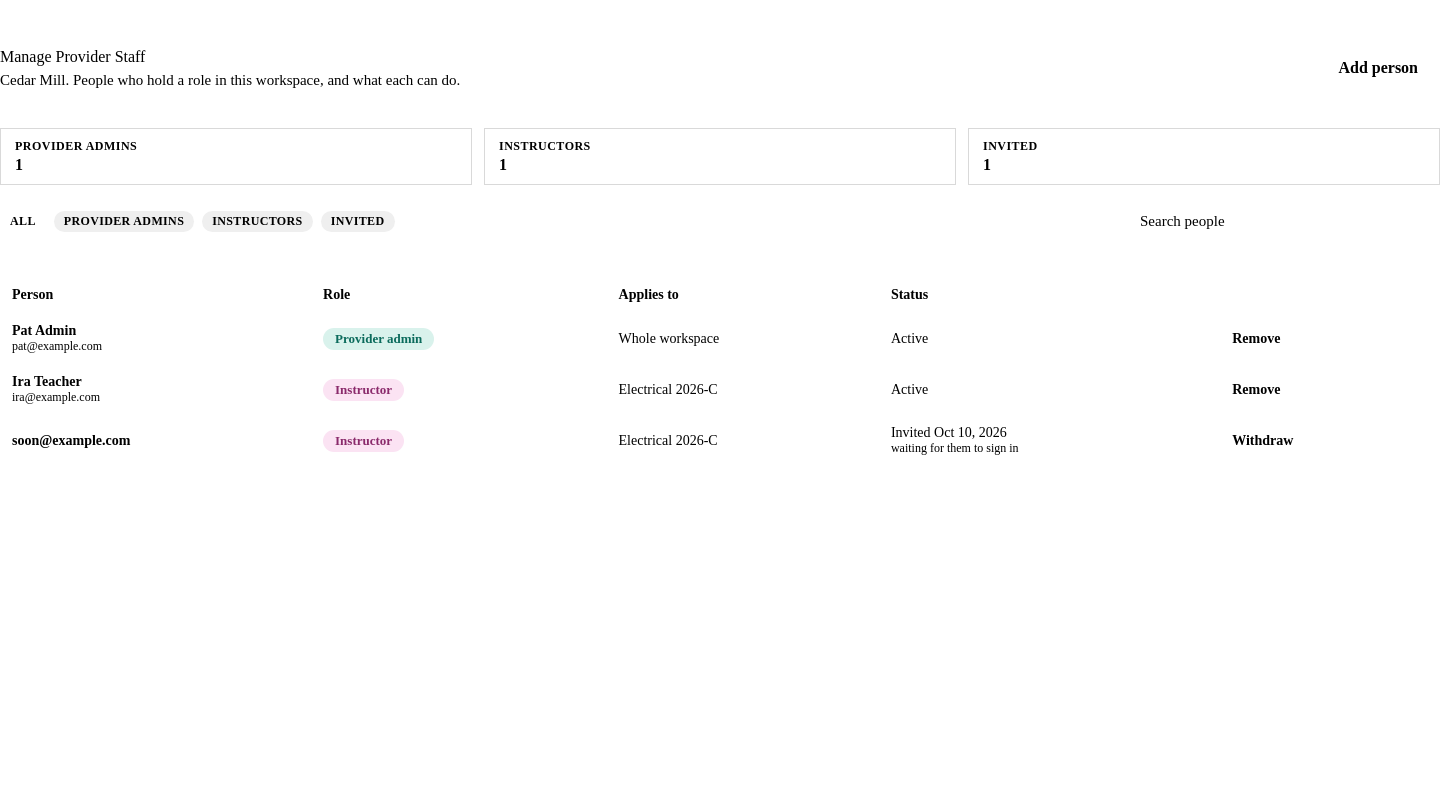
Test: MembersPage › offers only the roles the caller may grant, and asks for a cohort for an instructor
Click the button "Add person" at (1378, 68), box [1316, 48, 1439, 88]
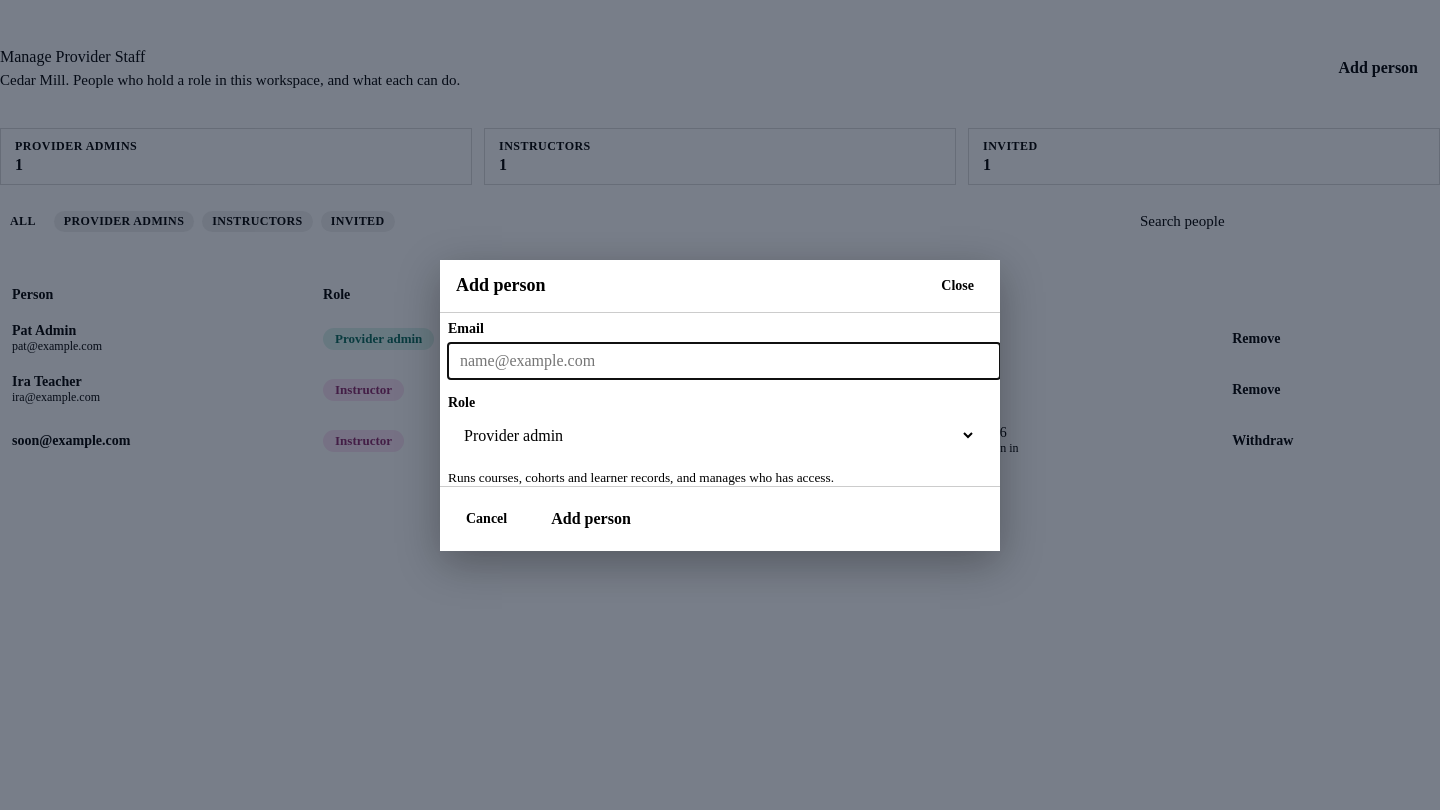
Expected: the field labelled "Cohort they teach" is not shown
Expected: the dialog is shown, [440, 260, 1000, 550]
Select "Instructor" in the dropdown labelled "Role" at (712, 435), box [448, 416, 976, 454]
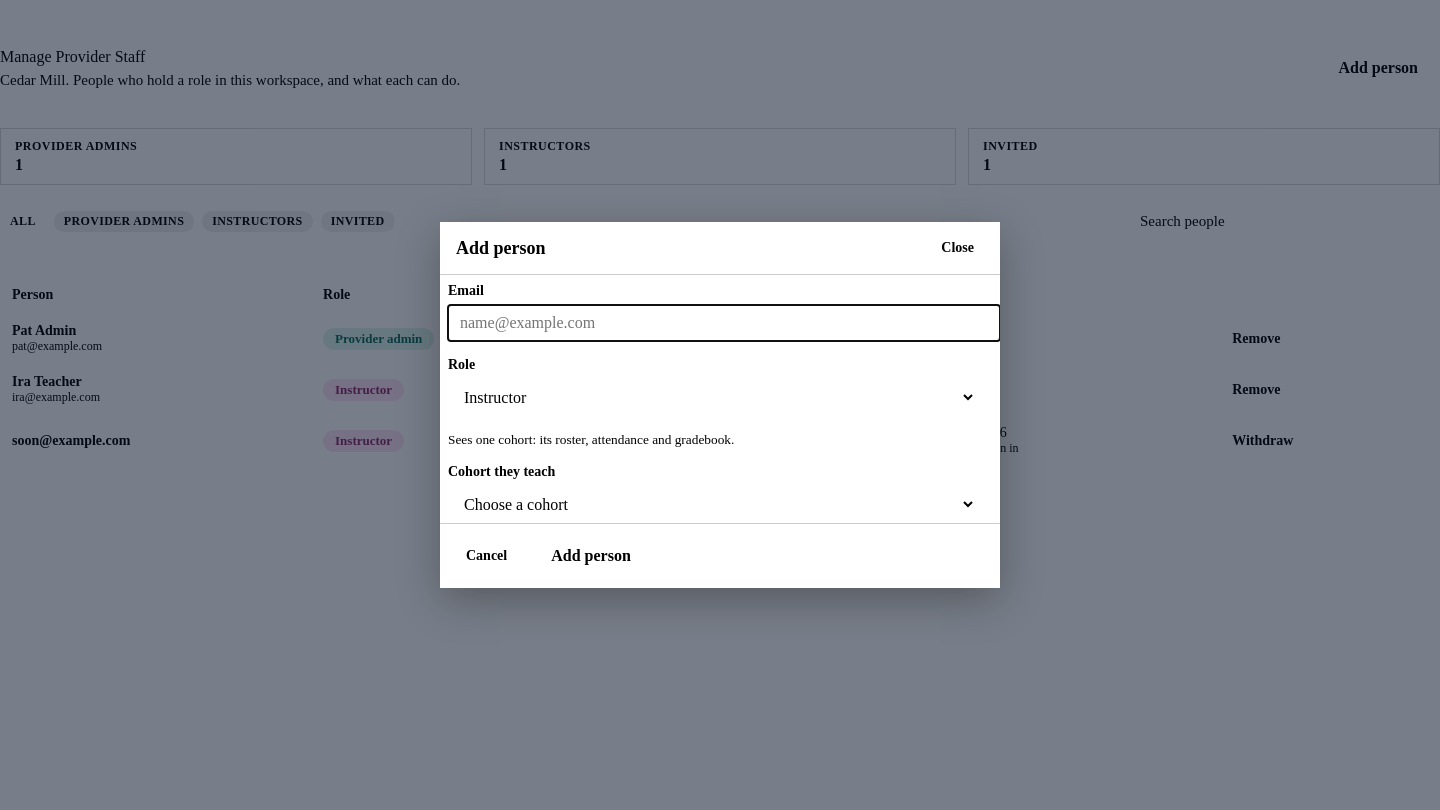
Type "new@example.com" into the field labelled "Email" at (724, 323), box [448, 305, 1000, 341]
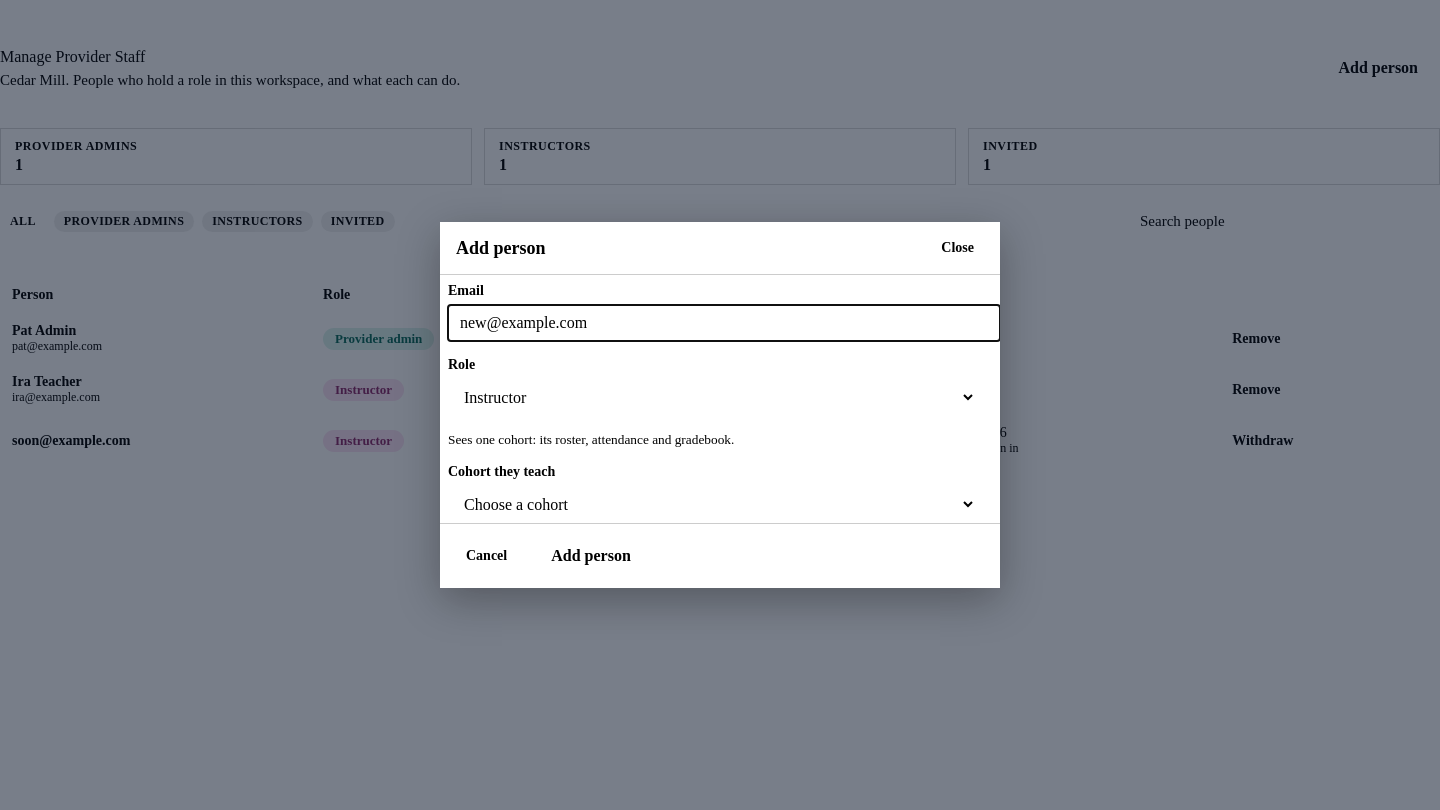
Select "Electrical 2026-C" in the dropdown labelled "Cohort they teach" at (712, 504), box [448, 486, 976, 523]
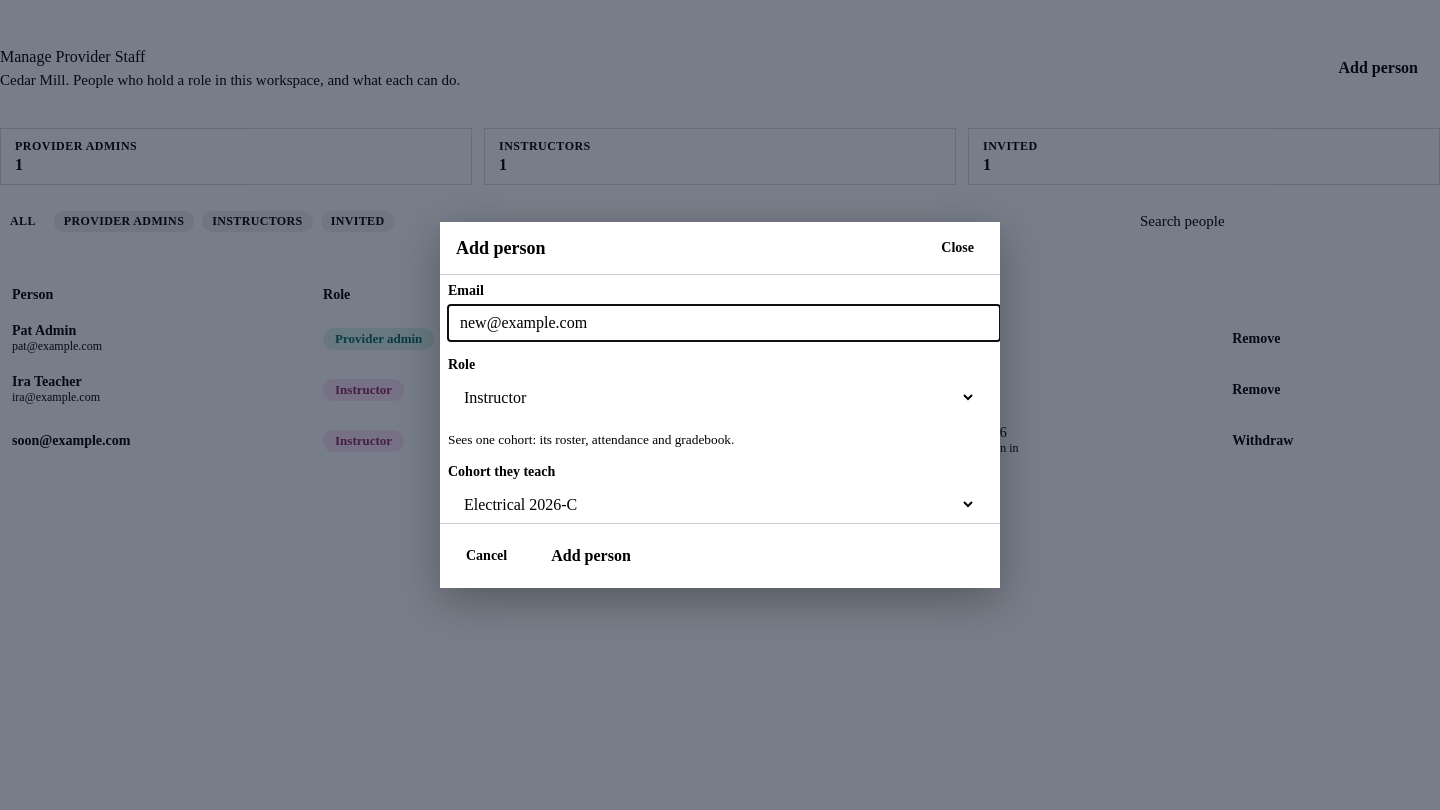
Click the button "Add person" at (591, 556), box [529, 536, 653, 576]
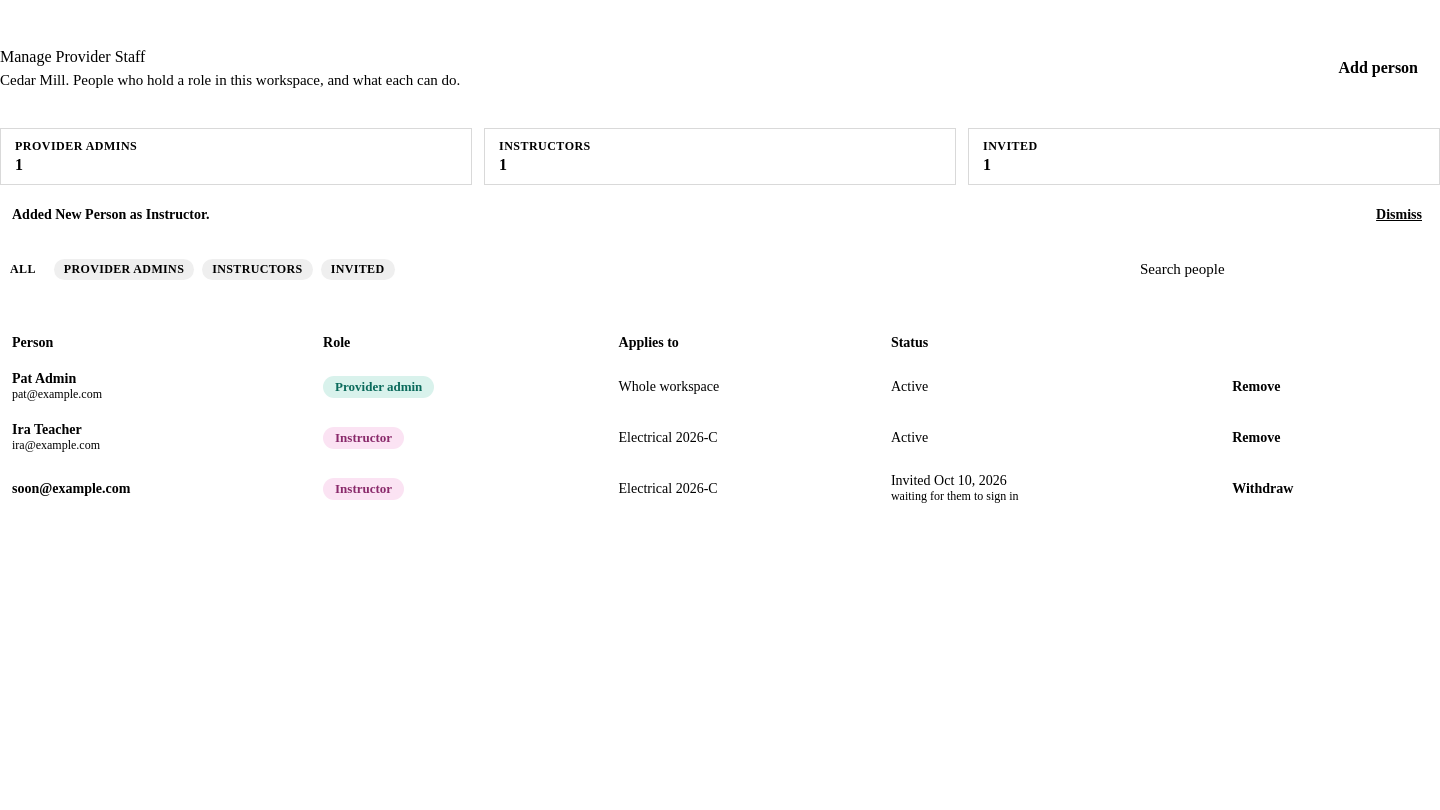
Expected: the message shows "Added New Person as Instructor.", [12, 207, 209, 222]
Expected: the dialog is gone
